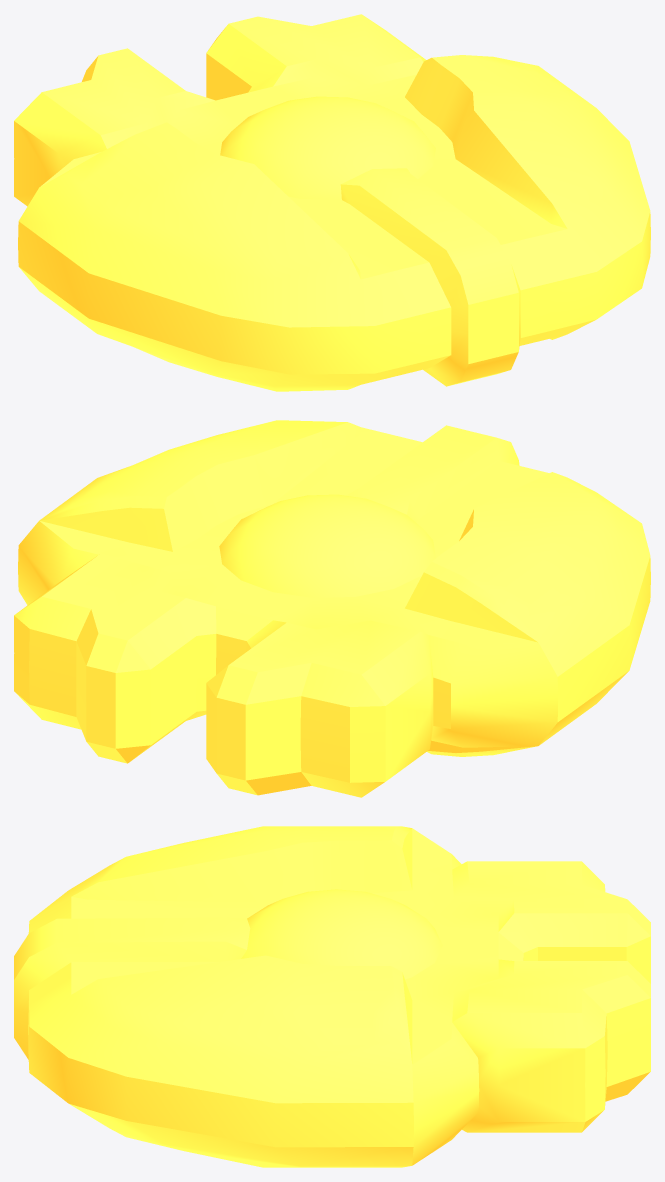
Rendered from 01_ship_super_solgasonder_aegis.glb.
3 renders of one model, top to bottom at view 1: azimuth 30°, elevation 25°; view 2: azimuth 150°, elevation 25°; view 3: azimuth 270°, elevation 25°, orthographic. The views are drawn at different scales.
Parts seen in each view (by area): view 1: 01_ship_super_solgasonder_aegis; view 2: 01_ship_super_solgasonder_aegis; view 3: 01_ship_super_solgasonder_aegis.
Boxes of the visible parts, box(x1,y1,x2,y2) form: 01_ship_super_solgasonder_aegis: box(14, 14, 650, 391); 01_ship_super_solgasonder_aegis: box(14, 420, 650, 797); 01_ship_super_solgasonder_aegis: box(14, 826, 650, 1167).
Size of the model in its own units: 0.9921 by 0.3373 by 1.04.
